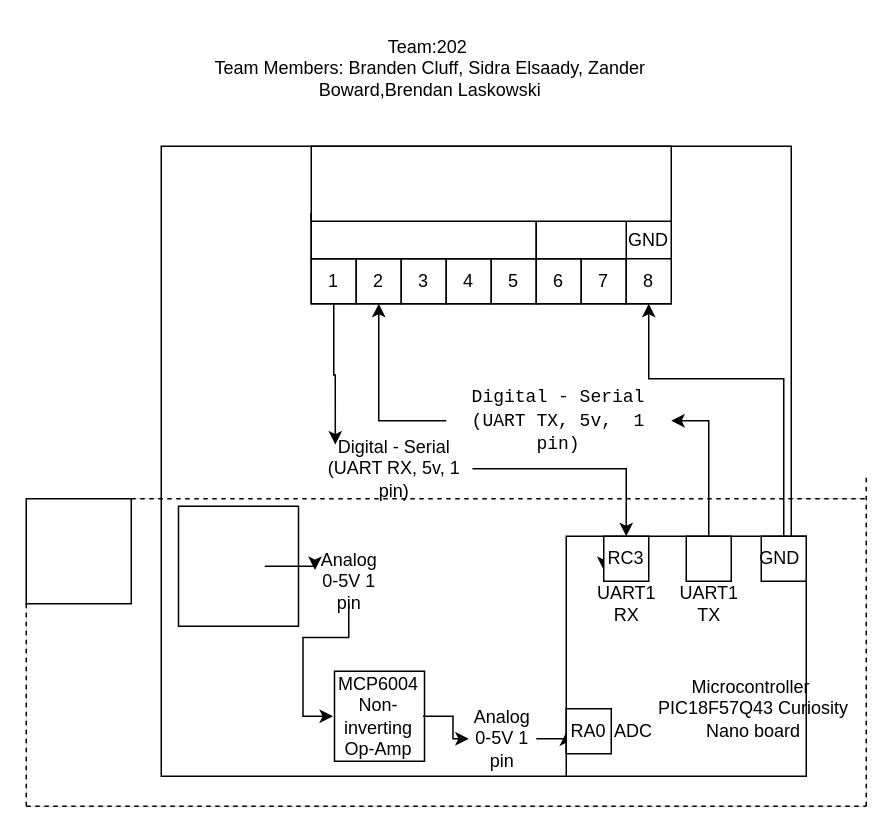
Image size: 894x834. Some labels were removed from this diagram. Here are the shapes that lost their labels. From the top down, the centre of each, then its label:
pixel 490 183: Connector 1
pixel 423 235: Digital
pixel 580 235: Analog
pixel 78 550: +5V 1.5A DC Regulator LM7805
pixel 237 565: 5549 Photoresistor
pixel 708 558: RC2
